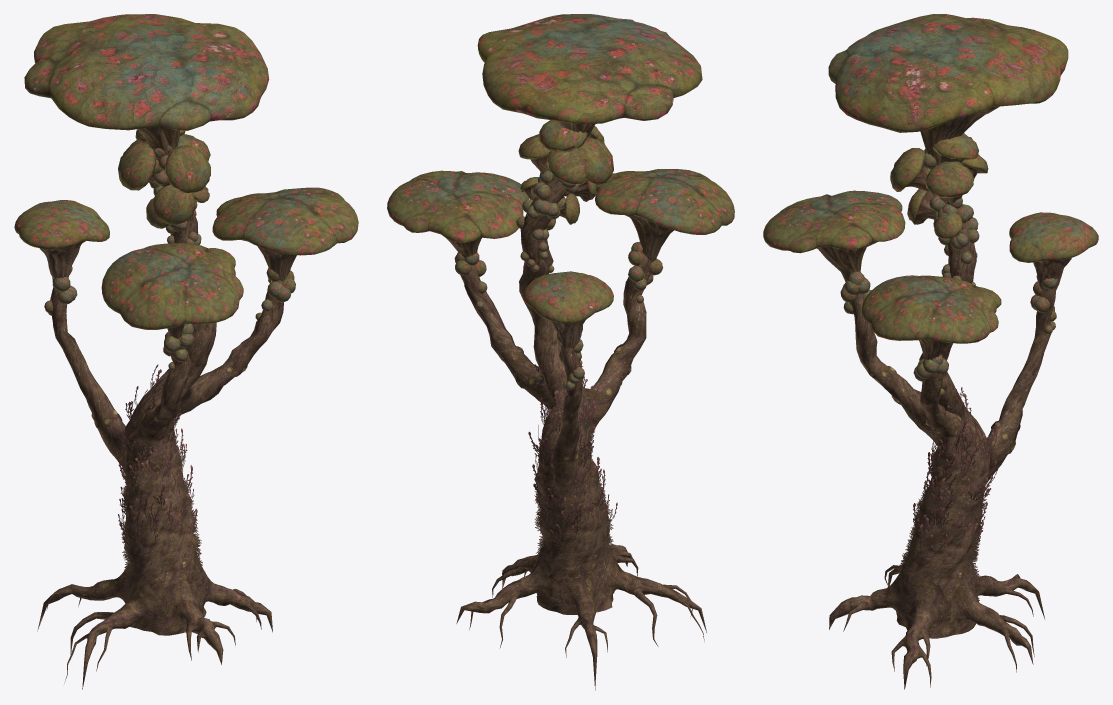
File: Tree - Alien ShroomTree 01 1-3Lqs6T8v.glb
3 views of the same model, side by side, from view 1: azimuth 30°, elevation 25°; view 2: azimuth 150°, elevation 25°; view 3: azimuth 270°, elevation 25° (orthographic).
Visible parts, largest first — view 1: Shrooomtree_1(Clone), Shrooomtree_Plants1(Clone); view 2: Shrooomtree_1(Clone), Shrooomtree_Plants1(Clone); view 3: Shrooomtree_1(Clone), Shrooomtree_Plants1(Clone).
Part boxes in pixels (left/top/right/bottom): Shrooomtree_1(Clone): left=14, top=14, right=358, bottom=689; Shrooomtree_Plants1(Clone): left=118, top=364, right=206, bottom=612; Shrooomtree_1(Clone): left=387, top=14, right=734, bottom=690; Shrooomtree_Plants1(Clone): left=528, top=357, right=617, bottom=590; Shrooomtree_1(Clone): left=763, top=14, right=1098, bottom=689; Shrooomtree_Plants1(Clone): left=897, top=387, right=998, bottom=613.
Bounding box in the file's own units: 13.09 × 25.67 × 12.83.
Materials: 4 (4 with a texture image).
